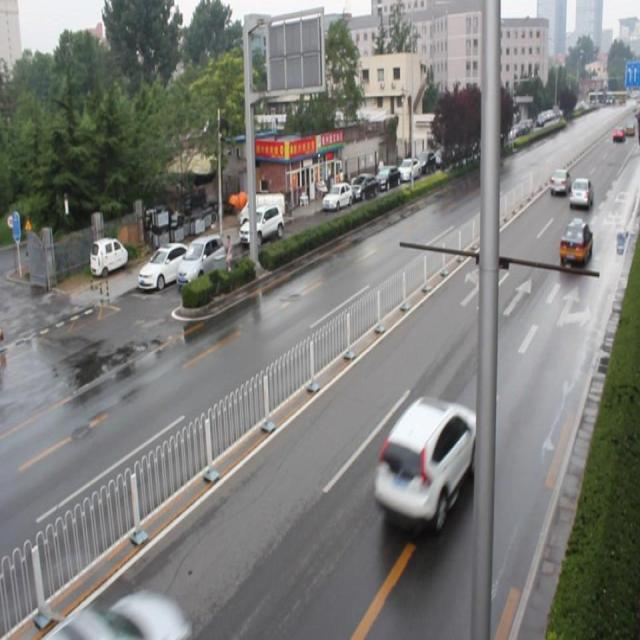car: (372, 394, 478, 529), (558, 219, 590, 265), (567, 176, 591, 208), (548, 169, 570, 194)
